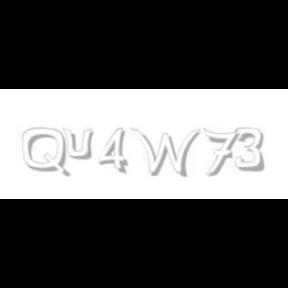3: (234, 128, 266, 172)
4: (97, 128, 128, 174)
7: (204, 128, 240, 178)
Q: (22, 128, 68, 178)
W: (129, 128, 201, 178)
u: (62, 128, 98, 160)
